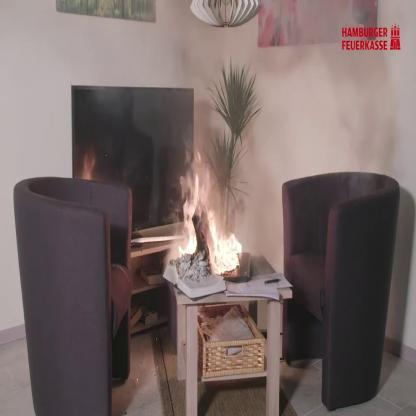fire: (170, 151, 230, 259), (191, 202, 247, 281)
